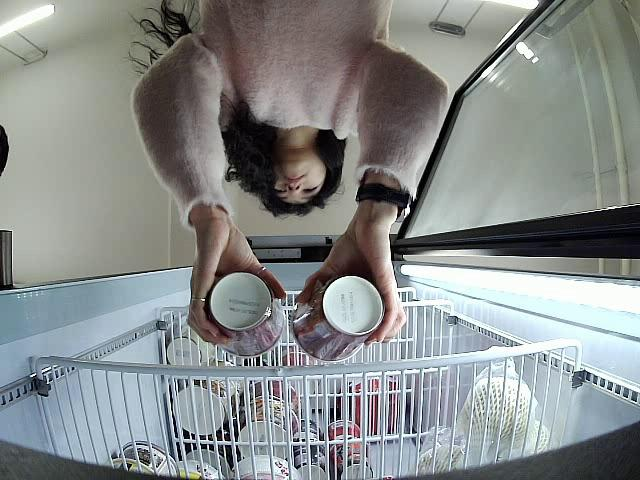00_hand: (294, 217, 406, 348), (187, 209, 284, 348)
06_nuguri_S: (291, 272, 386, 362), (207, 271, 284, 356)
